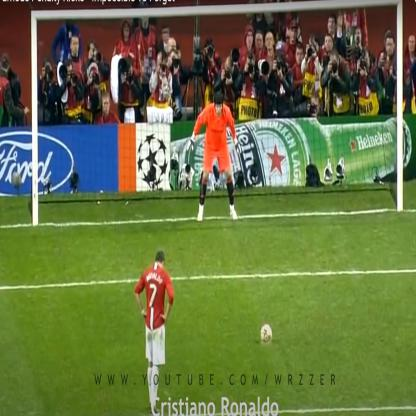penalty kick: (141, 1, 312, 406)
